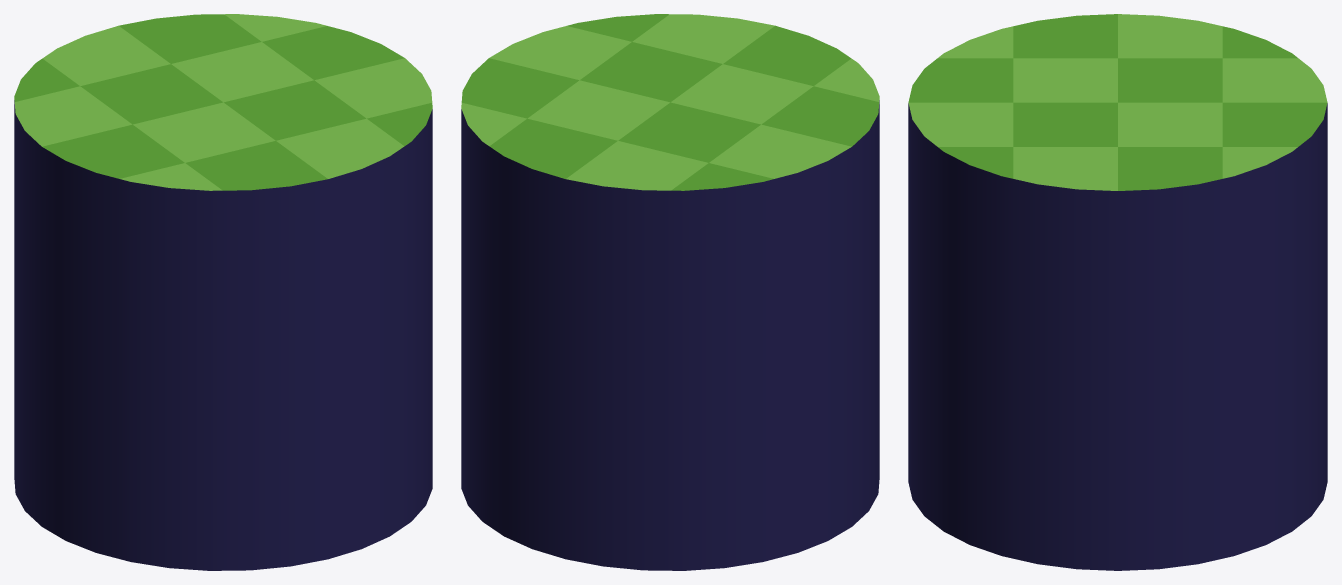
File: cyl_green.glb
3 views of the same model, side by side, from view 1: azimuth 30°, elevation 25°; view 2: azimuth 150°, elevation 25°; view 3: azimuth 270°, elevation 25° (orthographic).
Parts seen in each view (by area): view 1: Body; view 2: Body; view 3: Body.
Boxes of the visible parts, <box> form: Body: <box>14,14,432,570</box>; Body: <box>461,14,879,570</box>; Body: <box>908,14,1327,570</box>.
Size of the model in its own units: 1 by 1 by 1.
